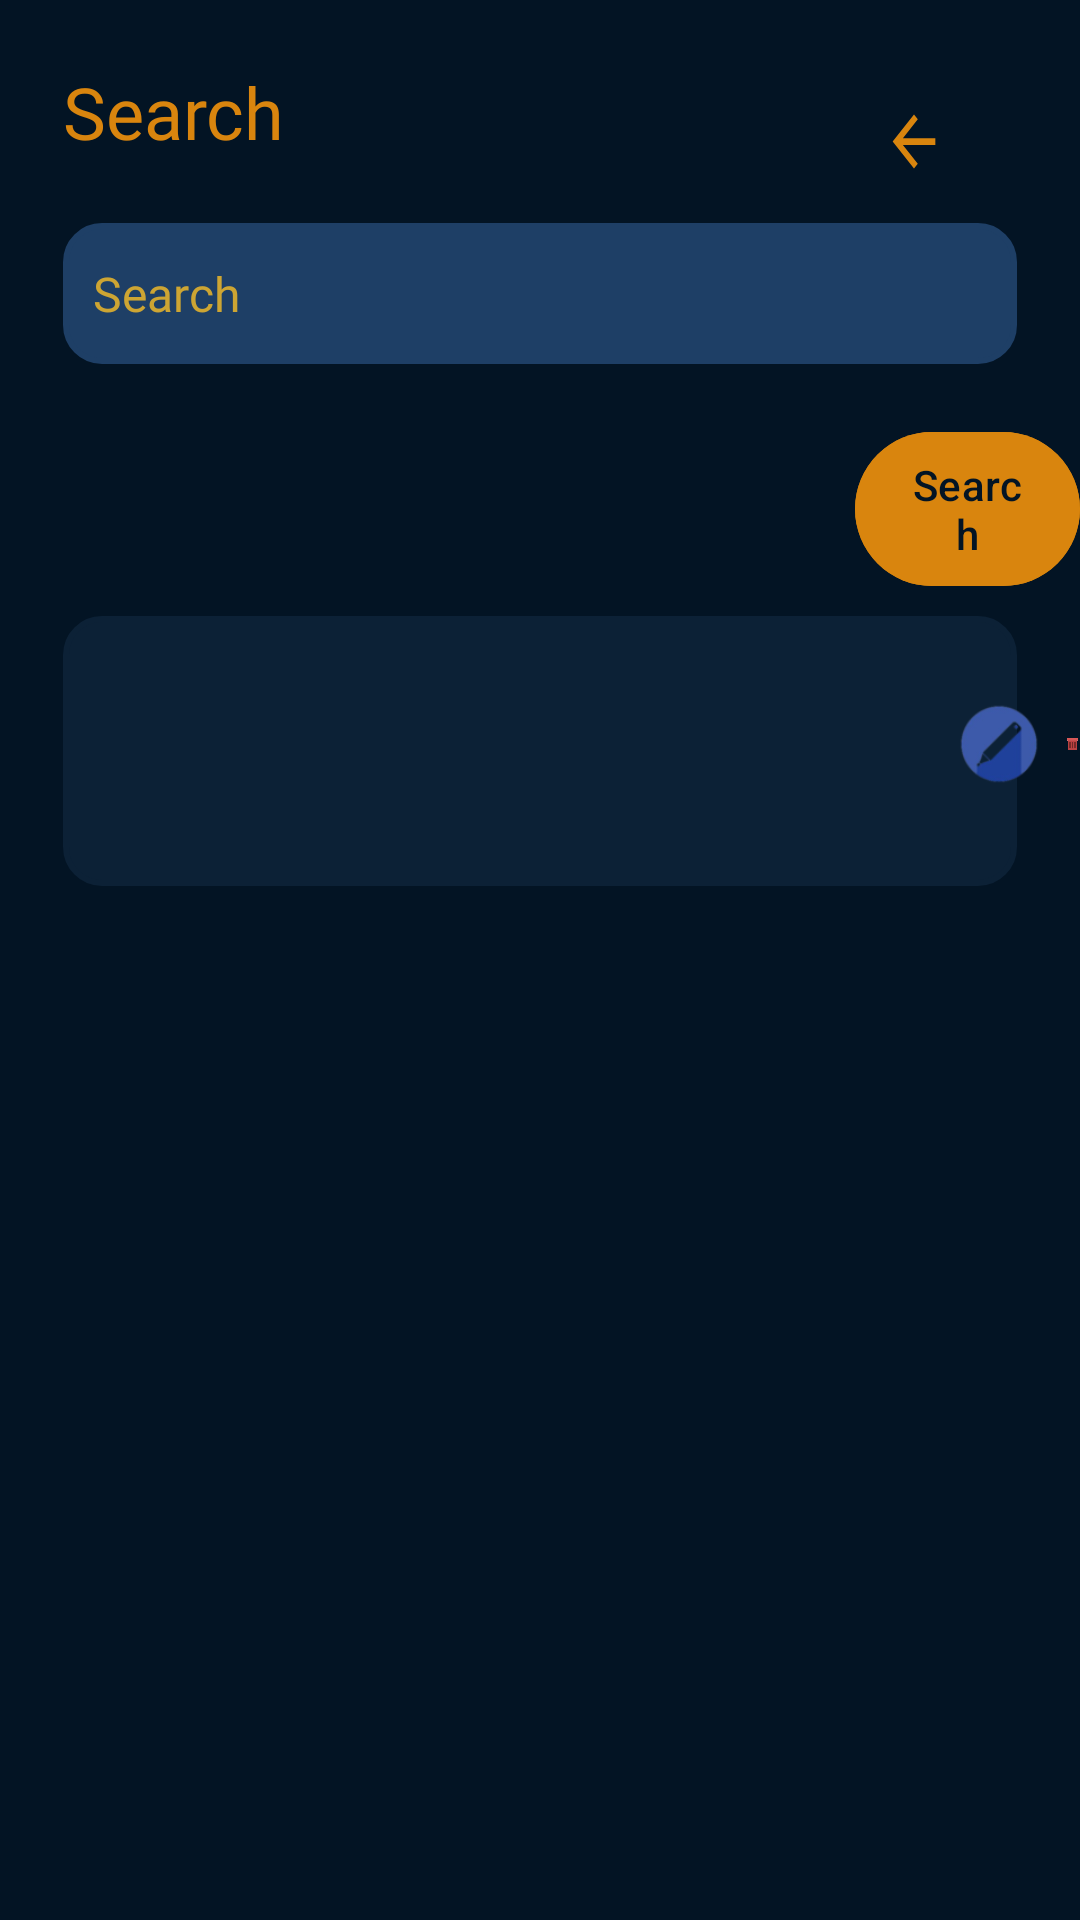

Where to tap for icons on this 1080x1920 app screen, as point (x, y):
arrow back: point (914, 141)
edit: point (998, 744)
